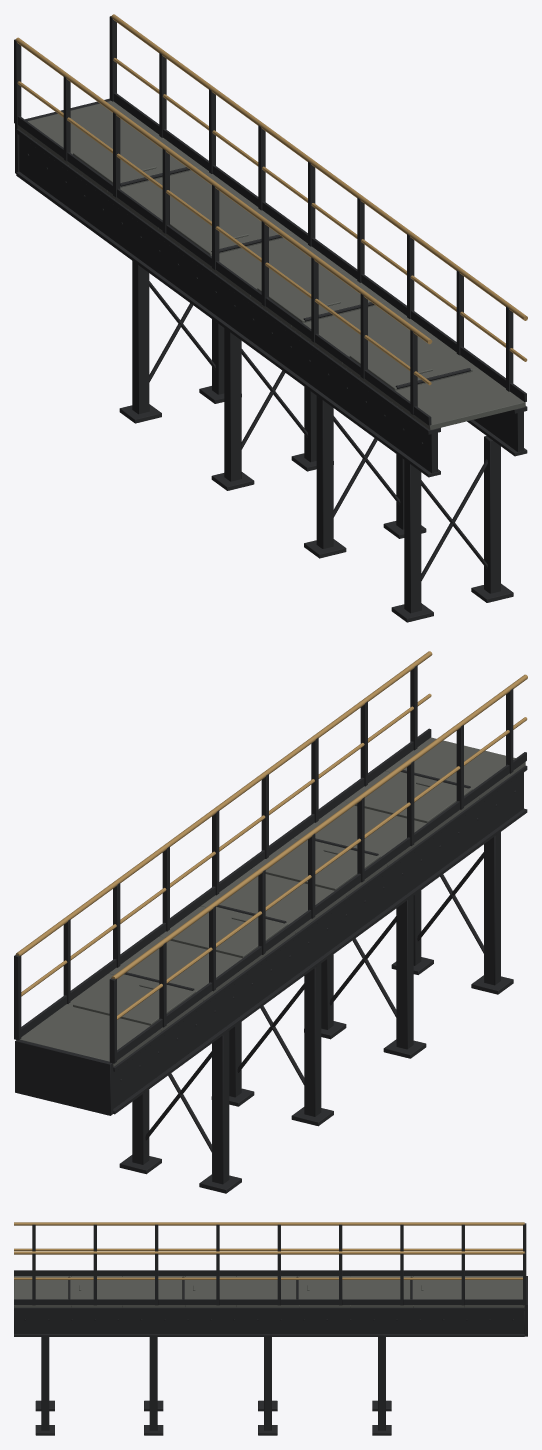
Rendered from catwalk.glb.
The picture shows the model from 3 angles, top to bottom: view 1: azimuth 30°, elevation 25°; view 2: azimuth 150°, elevation 25°; view 3: azimuth 270°, elevation 25°; orthographic projection. The views are drawn at different scales.
Parts seen in each view (by area): view 1: catwalk_frame, catwalk_deck, catwalk_rail, IA_hatch_1, IA_hatch_2, IA_hatch_3, IA_hatch_4; view 2: catwalk_frame, catwalk_deck, catwalk_rail, IA_hatch_4, IA_hatch_2, IA_hatch_3, IA_hatch_1; view 3: catwalk_frame, catwalk_deck, catwalk_rail, IA_hatch_2, IA_hatch_1, IA_hatch_3, IA_hatch_4.
Part boxes in pixels (left/top/right/bottom): catwalk_frame: left=14, top=16, right=527, bottom=622; catwalk_deck: left=17, top=101, right=525, bottom=430; catwalk_rail: left=15, top=14, right=527, bottom=385; IA_hatch_1: left=349, top=336, right=472, bottom=390; IA_hatch_2: left=257, top=269, right=380, bottom=322; IA_hatch_3: left=170, top=201, right=287, bottom=255; IA_hatch_4: left=73, top=134, right=195, bottom=187; catwalk_frame: left=14, top=665, right=527, bottom=1193; catwalk_deck: left=20, top=737, right=525, bottom=1066; catwalk_rail: left=15, top=651, right=527, bottom=1019; IA_hatch_4: left=73, top=971, right=195, bottom=1025; IA_hatch_2: left=258, top=837, right=380, bottom=890; IA_hatch_3: left=165, top=904, right=288, bottom=958; IA_hatch_1: left=350, top=769, right=472, bottom=823; catwalk_frame: left=14, top=1223, right=527, bottom=1435; catwalk_deck: left=14, top=1276, right=524, bottom=1307; catwalk_rail: left=14, top=1222, right=524, bottom=1279; IA_hatch_2: left=184, top=1277, right=238, bottom=1299; IA_hatch_1: left=70, top=1277, right=124, bottom=1299; IA_hatch_3: left=298, top=1277, right=352, bottom=1299; IA_hatch_4: left=412, top=1277, right=466, bottom=1299.
Bounding box in the file's own units: 1.34 × 3.53 × 9.01.
